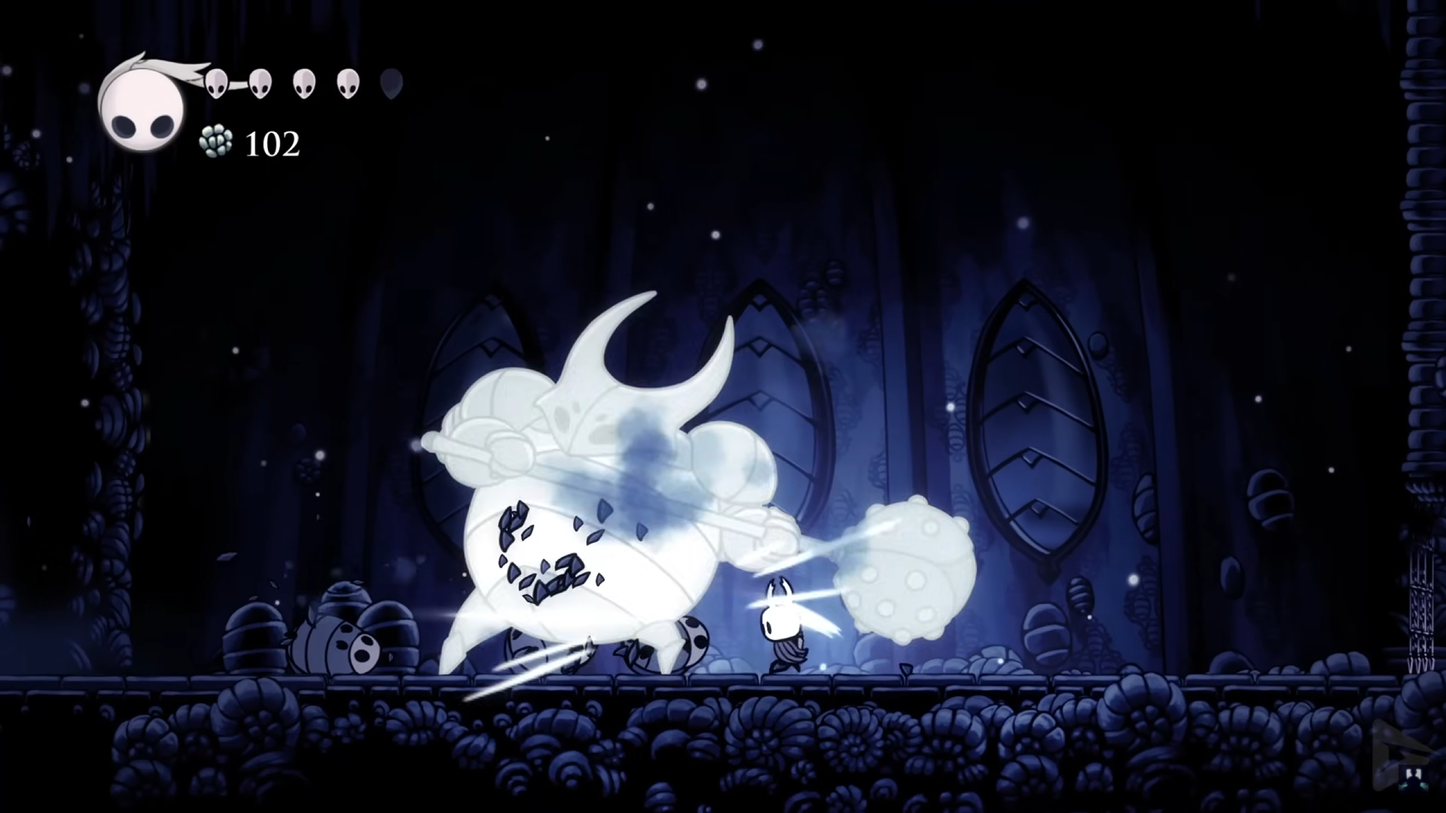HK: (752, 577, 813, 677)
